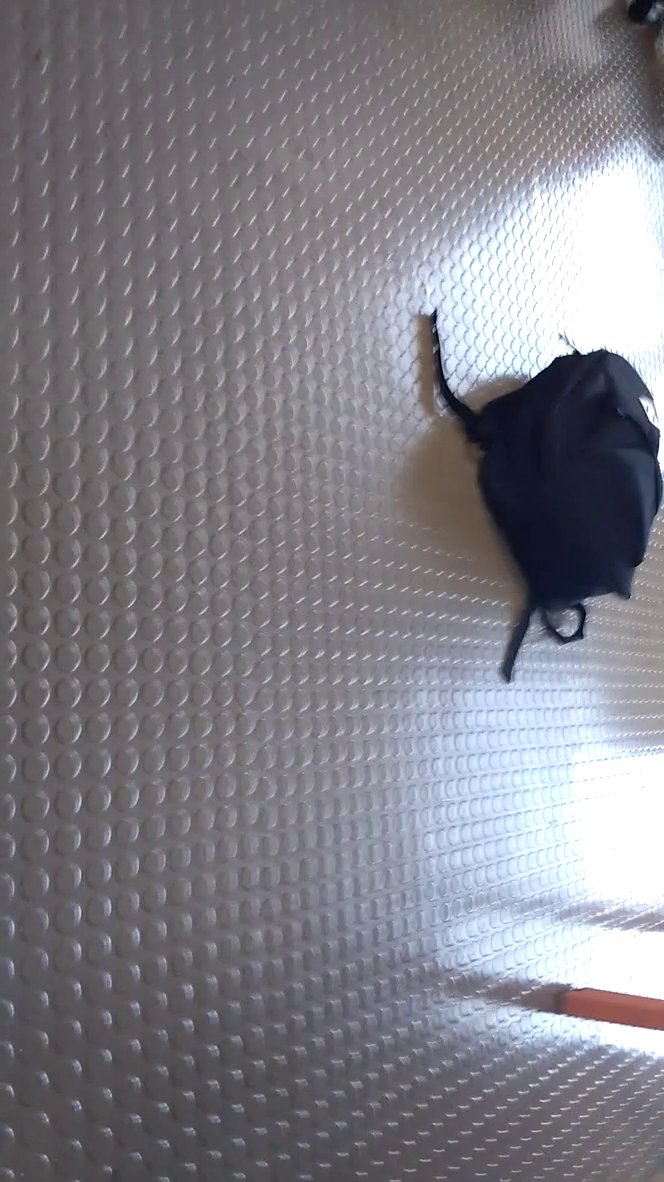bag: (419, 305, 664, 687)
